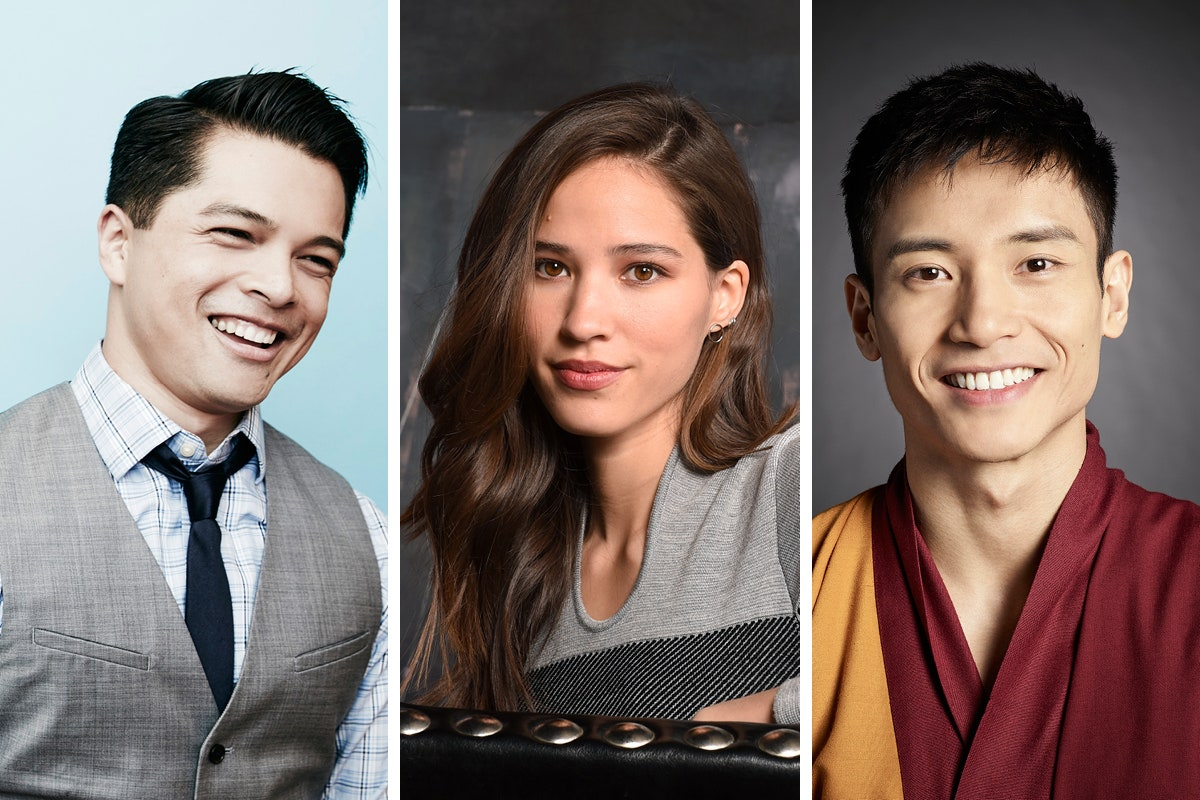bare: (873, 297, 1110, 462), (122, 266, 328, 416), (515, 290, 705, 433)
